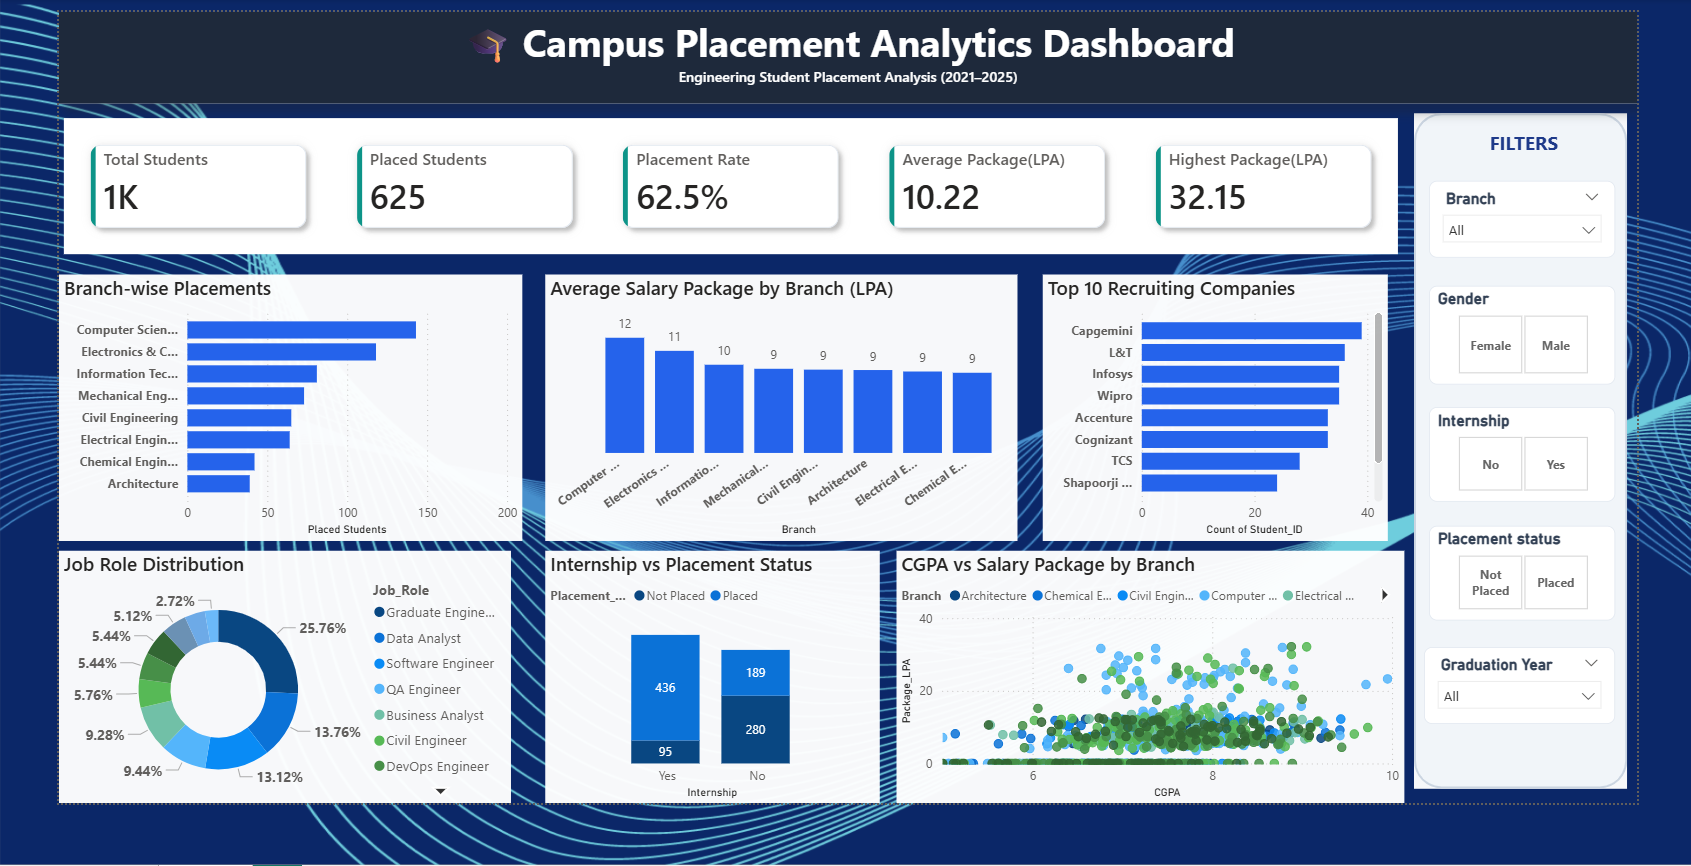

The page's visual inventory and layout, read from the dashboard file:
{"tool":"powerbi","page":{"name":"Page 1","canvas":[1559,782],"ordinal":0},"visuals":[{"type":"shape","box":[1338.2,99.4,210.6,666.9],"z":0},{"type":"shape","box":[0,0,1559,90.7],"z":1000},{"type":"textbox","box":[0,0,1559,90.7],"z":2000},{"type":"cardVisual","fields":{"Data":["Engineering_Placement_Final.Total Students","Engineering_Placement_Final.Placed Students","Engineering_Placement_Final.Placement Rate","Engineering_Placement_Final.Average Package","Engineering_Placement_Final.Highest Package"]},"box":[0,99.4,1327.9,144.8],"z":3000},{"type":"clusteredBarChart","title":"Branch-wise Placements","fields":{"Category":["Engineering_Placement_Final.Branch"],"Y":["Engineering_Placement_Final.Placed Students"]},"box":[0,258.9,457.8,263.2],"z":4000},{"type":"clusteredColumnChart","title":"Average Salary Package by Branch (LPA)","fields":{"Category":["Engineering_Placement_Final.Branch"],"Y":["Engineering_Placement_Final.Average Package"]},"box":[479.7,258.9,466.5,263.2],"z":5000},{"type":"clusteredBarChart","title":"Top 10 Recruiting Companies","fields":{"Category":["Engineering_Placement_Final.Company"],"Y":["CountNonNull(Engineering_Placement_Final.Student_ID)"]},"box":[971.1,258.9,340.8,263.2],"z":6000},{"type":"donutChart","title":"Job Role Distribution","fields":{"Category":["Engineering_Placement_Final.Job_Role"],"Y":["CountNonNull(Engineering_Placement_Final.Student_ID)"]},"box":[0,532.3,446.1,250.1],"z":7000},{"type":"columnChart","title":"Internship vs Placement Status","fields":{"Category":["Engineering_Placement_Final.Internship"],"Series":["Engineering_Placement_Final.Placement_Status"],"Y":["CountNonNull(Engineering_Placement_Final.Student_ID)"]},"box":[479.7,532.3,330.5,250.1],"z":8000},{"type":"scatterChart","title":"CGPA vs Salary Package by Branch","fields":{"X":["Engineering_Placement_Final.CGPA"],"Y":["Engineering_Placement_Final.Package_LPA"],"Series":["Engineering_Placement_Final.Branch"]},"box":[827.8,532.3,501.6,250.1],"z":9000},{"type":"slicer","fields":{"Values":["Engineering_Placement_Final.Branch"]},"box":[1352.8,166.7,184.3,76],"z":10000},{"type":"slicer","title":"Internship","fields":{"Values":["Engineering_Placement_Final.Internship"]},"box":[1352.8,390.5,184.3,93.6],"z":11000},{"type":"slicer","title":"Placement status","fields":{"Values":["Engineering_Placement_Final.Placement_Status"]},"box":[1352.8,507.5,184.3,93.6],"z":12000},{"type":"slicer","fields":{"Values":["Engineering_Placement_Final.Graduation_Year"]},"box":[1348.4,627.4,188.7,76],"z":13000},{"type":"textbox","box":[1344,111.1,204.7,55.6],"z":14000},{"type":"slicer","title":"Gender","fields":{"Values":["Engineering_Placement_Final.Gender"]},"box":[1352.8,270.6,184.3,98],"z":15000}]}

Visuals, with their boxes in screenshot pixels (x1, y1, x2, y2), scaled from the page's 1559x782 canvas onto the 1691x866 screenshot:
shape: <bbox>1452, 110, 1680, 849</bbox>
shape: <bbox>0, 0, 1690, 100</bbox>
textbox: <bbox>0, 0, 1690, 100</bbox>
cardVisual - Engineering_Placement_Final.Total Students x Engineering_Placement_Final.Placed Students: <bbox>0, 110, 1440, 270</bbox>
"Branch-wise Placements" clusteredBarChart: <bbox>0, 287, 497, 578</bbox>
"Average Salary Package by Branch (LPA)" clusteredColumnChart: <bbox>520, 287, 1026, 578</bbox>
"Top 10 Recruiting Companies" clusteredBarChart: <bbox>1053, 287, 1423, 578</bbox>
"Job Role Distribution" donutChart: <bbox>0, 589, 484, 865</bbox>
"Internship vs Placement Status" columnChart: <bbox>520, 589, 879, 865</bbox>
"CGPA vs Salary Package by Branch" scatterChart: <bbox>898, 589, 1442, 865</bbox>
slicer - Engineering_Placement_Final.Branch: <bbox>1467, 185, 1667, 269</bbox>
"Internship" slicer: <bbox>1467, 432, 1667, 536</bbox>
"Placement status" slicer: <bbox>1467, 562, 1667, 666</bbox>
slicer - Engineering_Placement_Final.Graduation_Year: <bbox>1463, 695, 1667, 779</bbox>
textbox: <bbox>1458, 123, 1680, 185</bbox>
"Gender" slicer: <bbox>1467, 300, 1667, 408</bbox>
